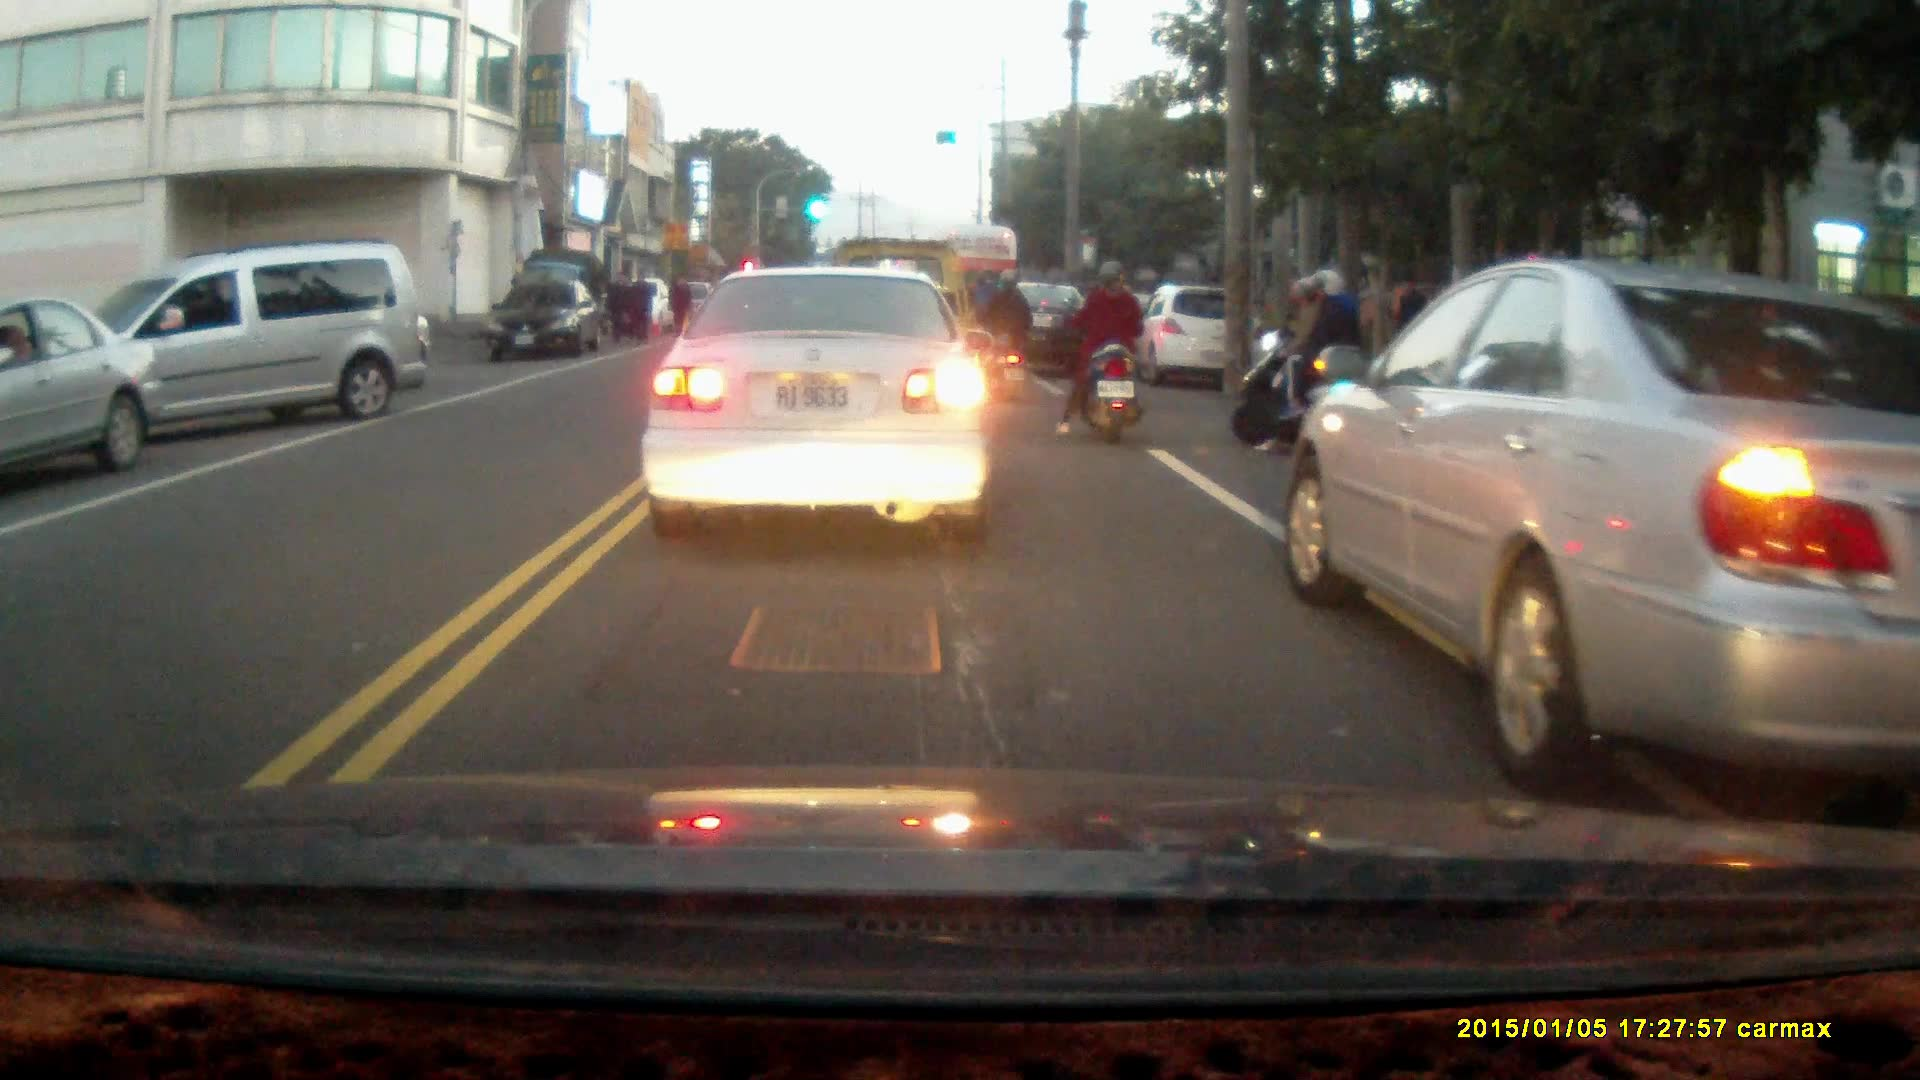pedestrian: (1394, 274, 1429, 363), (603, 271, 631, 348), (625, 272, 651, 349), (666, 272, 694, 340)
rider: (1231, 265, 1373, 457), (1050, 261, 1146, 445), (964, 269, 1029, 396)
vehicle: (1284, 256, 1920, 779), (648, 270, 997, 558), (57, 248, 423, 454), (1, 298, 163, 490), (1132, 284, 1259, 396), (970, 285, 1109, 382), (491, 279, 610, 364)
